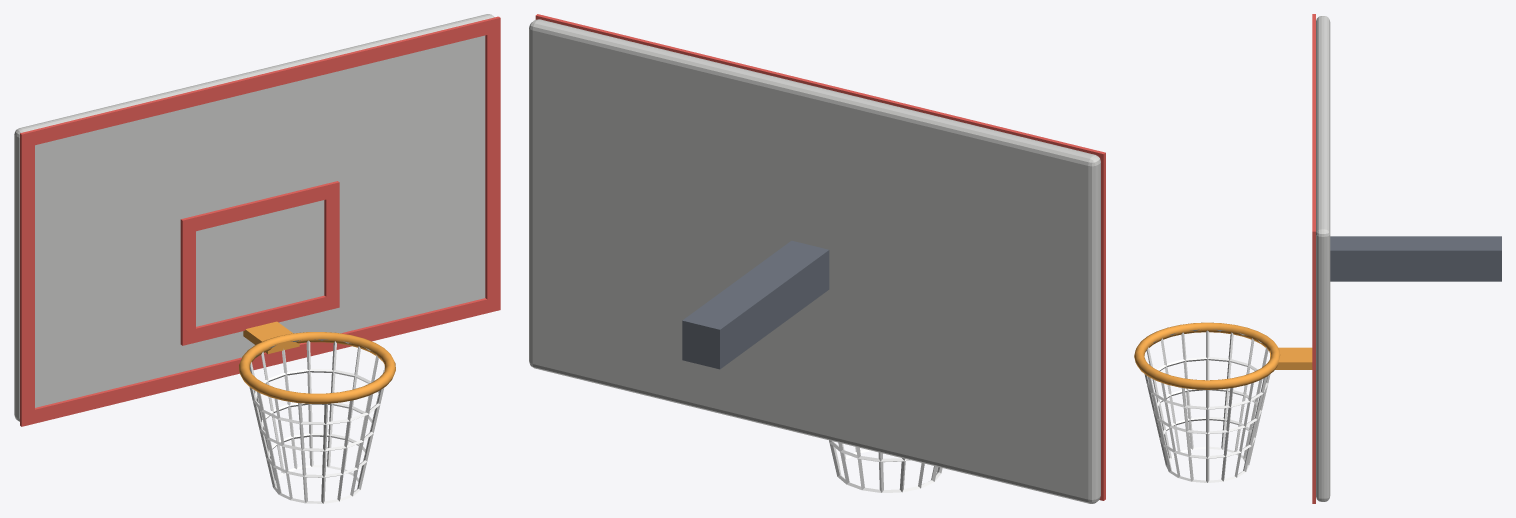
The model's file is pota-hoop-stylized.glb.
3 views of the same model, side by side, from view 1: azimuth 30°, elevation 25°; view 2: azimuth 150°, elevation 25°; view 3: azimuth 270°, elevation 25° (orthographic). The views are drawn at different scales.
Visible parts, largest first — view 1: board, border_top, net, border_bottom, border_right, border_left, rim, square_top, square_bottom, square_left, square_right, rim_bracket; view 2: board, mount_arm, border_top, border_left, net; view 3: mount_arm, board, net, rim, border_right, border_top, rim_bracket.
Part boxes in pixels (x1=…): board: x1=14, y1=14, x2=494, y2=421; border_top: x1=20, y1=16, x2=500, y2=147; net: x1=249, y1=339, x2=384, y2=503; border_bottom: x1=21, y1=296, x2=500, y2=426; border_right: x1=485, y1=31, x2=500, y2=312; border_left: x1=20, y1=131, x2=34, y2=426; rim: x1=239, y1=332, x2=395, y2=403; square_top: x1=181, y1=181, x2=339, y2=234; square_bottom: x1=182, y1=293, x2=339, y2=345; square_left: x1=180, y1=217, x2=195, y2=345; square_right: x1=324, y1=196, x2=339, y2=296; rim_bracket: x1=243, y1=321, x2=299, y2=353; board: x1=529, y1=19, x2=1100, y2=503; mount_arm: x1=682, y1=240, x2=829, y2=369; border_top: x1=535, y1=14, x2=1105, y2=170; border_left: x1=1088, y1=149, x2=1105, y2=500; net: x1=829, y1=440, x2=942, y2=492; mount_arm: x1=1330, y1=236, x2=1501, y2=281; board: x1=1316, y1=16, x2=1330, y2=501; net: x1=1144, y1=329, x2=1270, y2=482; rim: x1=1134, y1=322, x2=1280, y2=389; border_right: x1=1312, y1=225, x2=1315, y2=503; border_top: x1=1312, y1=14, x2=1315, y2=244; rim_bracket: x1=1270, y1=347, x2=1312, y2=369.
Bounding box in the file's own units: 1.8 × 1.32 × 1.29.
